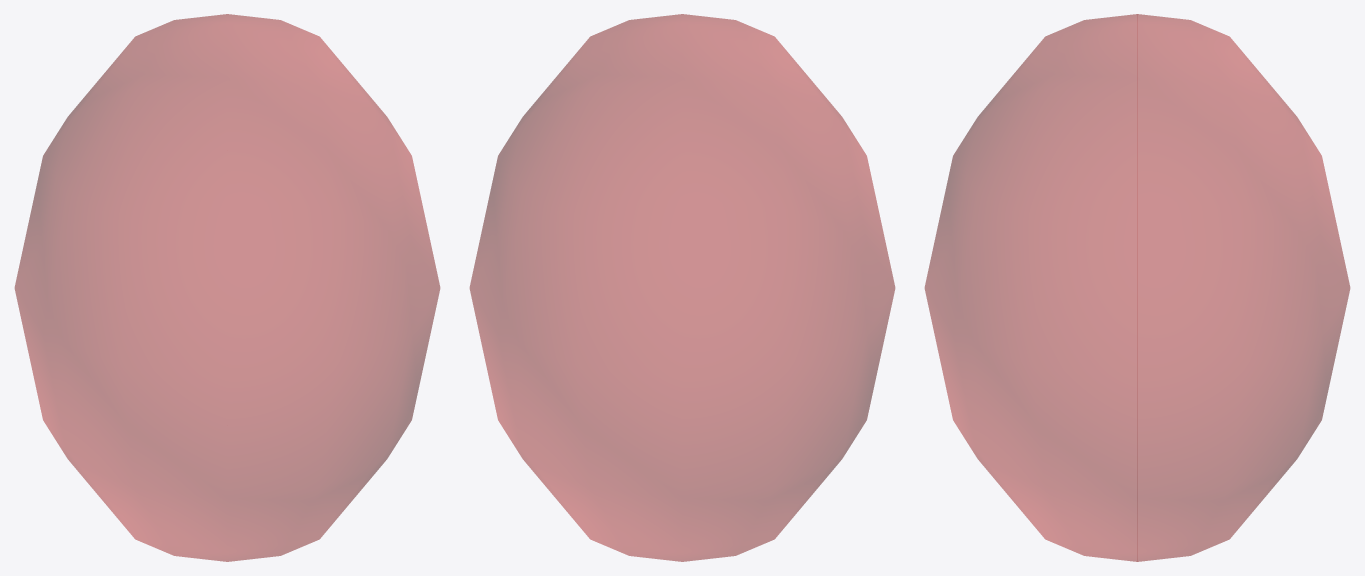
The model's file is torso_dummy.obj.
The picture shows the model from 3 angles, left to right: view 1: azimuth 30°, elevation 25°; view 2: azimuth 150°, elevation 25°; view 3: azimuth 270°, elevation 25°; orthographic projection.
Parts seen in each view (by area): view 1: Sphere012; view 2: Sphere012; view 3: Sphere012.
Part boxes in pixels (x1=…): Sphere012: x1=14, y1=14, x2=440, y2=561; Sphere012: x1=469, y1=14, x2=895, y2=561; Sphere012: x1=924, y1=14, x2=1350, y2=561.
Bounding box in the file's own units: 40.43 × 55.37 × 40.43.
